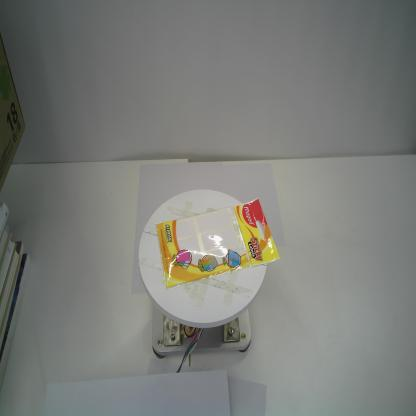Stationery: (155, 196, 281, 290)
